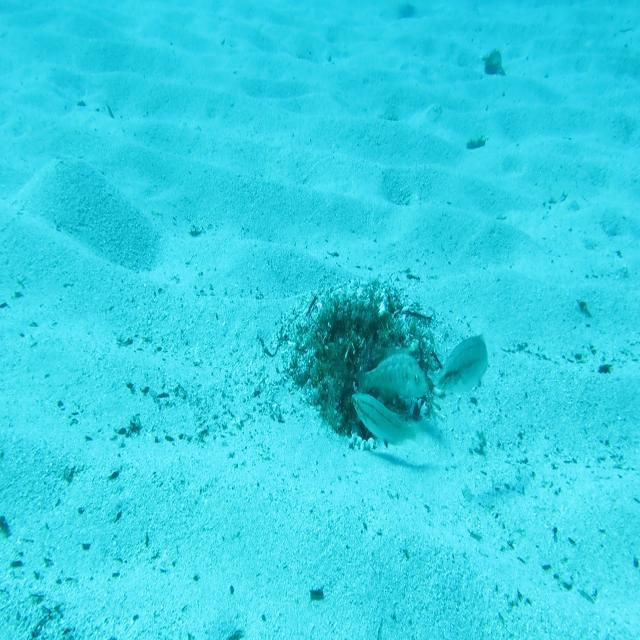DAN_CIRC: (356, 346, 429, 402)
core_nest: (340, 313, 392, 344)
female: (349, 391, 426, 450), (434, 330, 489, 399)
nest: (274, 274, 446, 454)
vegetation: (482, 46, 508, 80), (465, 138, 488, 151), (308, 584, 324, 600)
